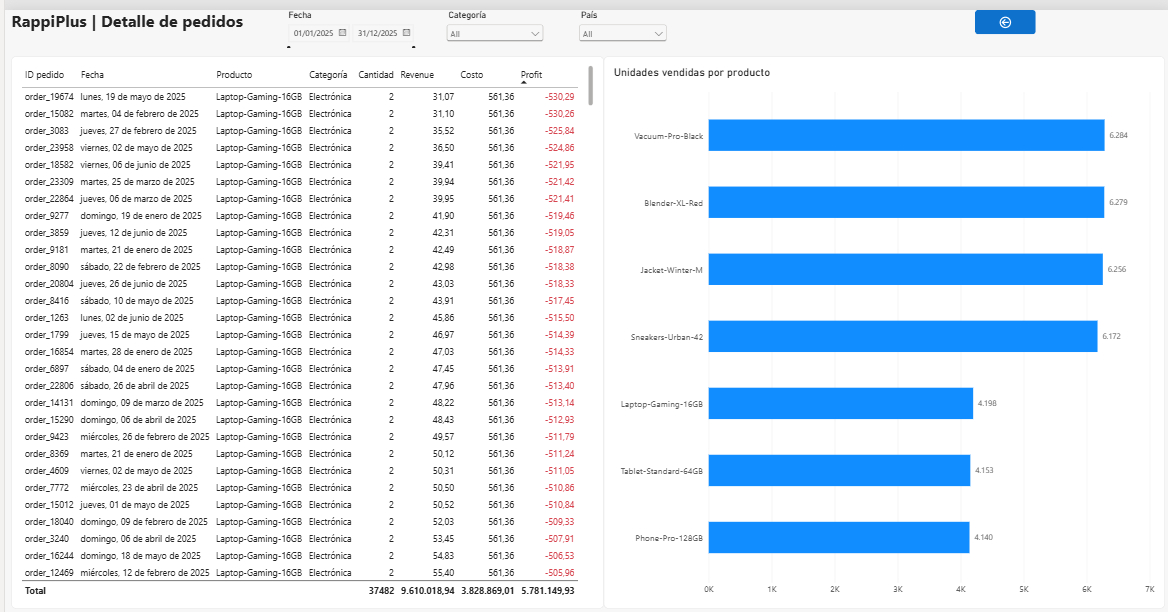

This screenshot's page, from the dashboard's own definition file:
{"tool":"powerbi","page":{"name":"Detalle de pedidos","canvas":[1920,1080],"ordinal":1},"visuals":[{"type":"textbox","box":[10.3,0,619.6,39.1],"z":0},{"type":"tableEx","fields":{"Values":["orders_clean.id_pedido","orders_clean.fecha_hora_pedido","catalog_clean.nombre_producto","catalog_clean.categoria_producto","Sum(orders_clean.cantidad)","Sum(orders_clean.monto_total)","Sum(orders_clean.costo_total)","Sum(orders_clean.profit)"]},"box":[10.3,76.2,975.6,909.8],"z":1000},{"type":"actionButton","box":[1597.3,0,100,40],"z":2000},{"type":"clusteredBarChart","title":"Unidades vendidas por producto","fields":{"Category":["catalog_clean.nombre_producto"],"Y":["_Medidas.Unidades vendidas"]},"box":[985.9,76.2,924.2,909.8],"z":2001},{"type":"slicer","fields":{"Values":["dim_fecha.Date"]},"box":[459,0,224.4,61.7],"z":2002},{"type":"slicer","fields":{"Values":["catalog_clean.categoria_producto"]},"box":[722.5,0,168.8,59.7],"z":2003},{"type":"slicer","fields":{"Values":["orders_clean.pais"]},"box":[940.8,0,153.9,59.9],"z":2004}]}

Visuals, with their boxes on the page's 1920x1080 design canvas (x1, y1, x2, y2). These are canvas units, not pixel positions in the 1168x612 screenshot, which may show the page scaled, cropped or inside an application window:
textbox: [left=10, top=0, right=630, bottom=39]
tableEx - orders_clean.id_pedido x orders_clean.fecha_hora_pedido: [left=10, top=76, right=986, bottom=986]
actionButton: [left=1597, top=0, right=1697, bottom=40]
"Unidades vendidas por producto" clusteredBarChart: [left=986, top=76, right=1910, bottom=986]
slicer - dim_fecha.Date: [left=459, top=0, right=683, bottom=62]
slicer - catalog_clean.categoria_producto: [left=722, top=0, right=891, bottom=60]
slicer - orders_clean.pais: [left=941, top=0, right=1095, bottom=60]
